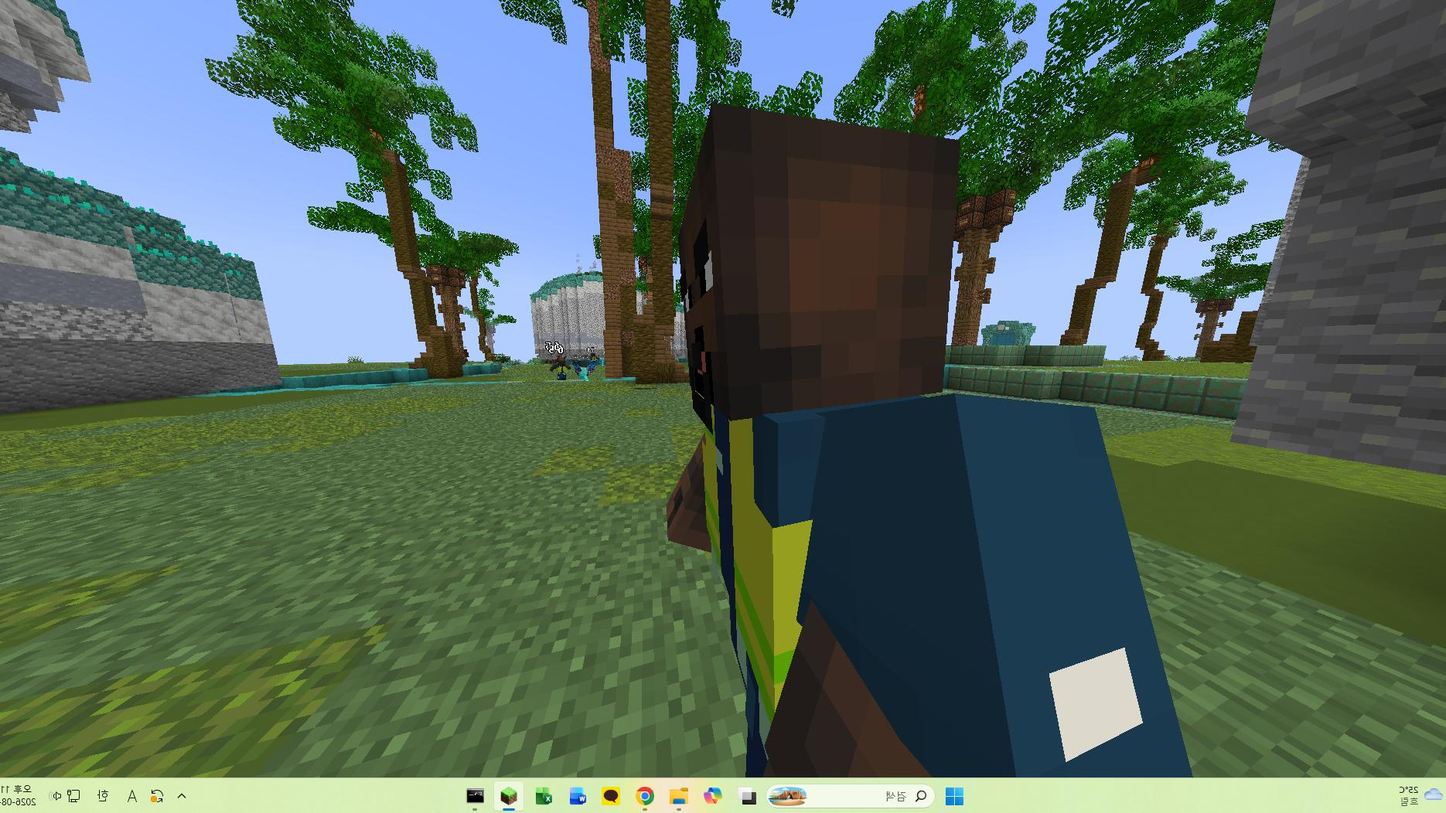Guardian: (667, 105, 1191, 777)
